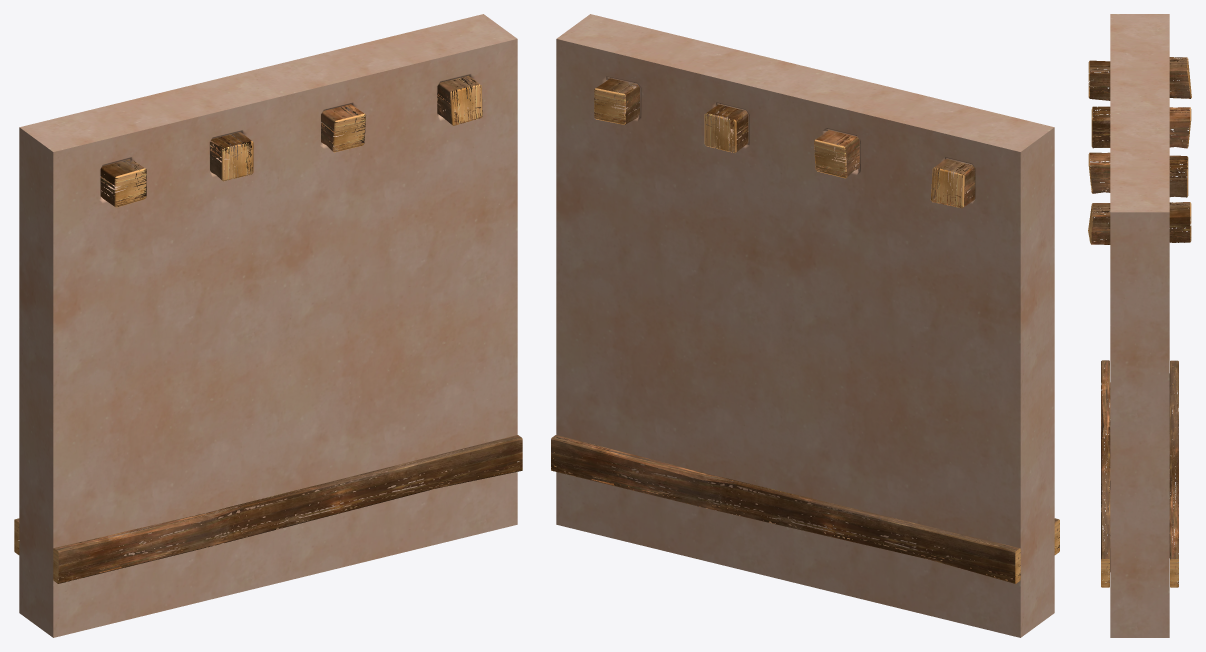
3 views of the same model, side by side, from view 1: azimuth 30°, elevation 25°; view 2: azimuth 150°, elevation 25°; view 3: azimuth 270°, elevation 25° (orthographic). The views are drawn at different scales.
Parts seen in each view (by area): view 1: SM_BB_T4_Wall_Large_LOD0; view 2: SM_BB_T4_Wall_Large_LOD0; view 3: SM_BB_T4_Wall_Large_LOD0.
Boxes of the visible parts, <box> form: SM_BB_T4_Wall_Large_LOD0: <box>14,14,522,637</box>; SM_BB_T4_Wall_Large_LOD0: <box>551,14,1059,637</box>; SM_BB_T4_Wall_Large_LOD0: <box>1088,14,1191,637</box>.
Bounding box in the file's own units: 3 × 3 × 0.6636.
Materials: 2 (2 with a texture image).
